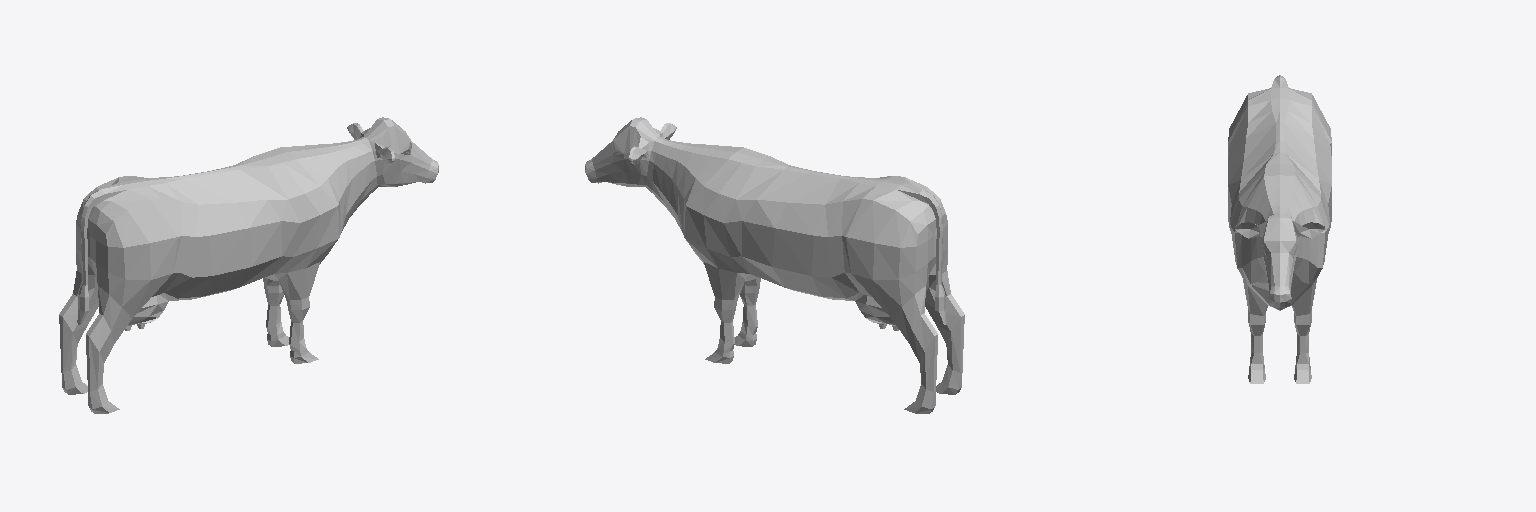
Rendered from cow.obj.
The picture shows the model from 3 angles: view 1: azimuth 30°, elevation 25°; view 2: azimuth 150°, elevation 25°; view 3: azimuth 270°, elevation 25°; orthographic projection.
Parts seen in each view (by area): view 1: vache; view 2: vache; view 3: vache.
Boxes of the visible parts, box(x1,y1,x2,y2) form: vache: box(59, 117, 438, 413); vache: box(585, 117, 964, 413); vache: box(1228, 75, 1331, 383).
Size of the model in its own units: 1.88 by 1.03 by 0.4692.